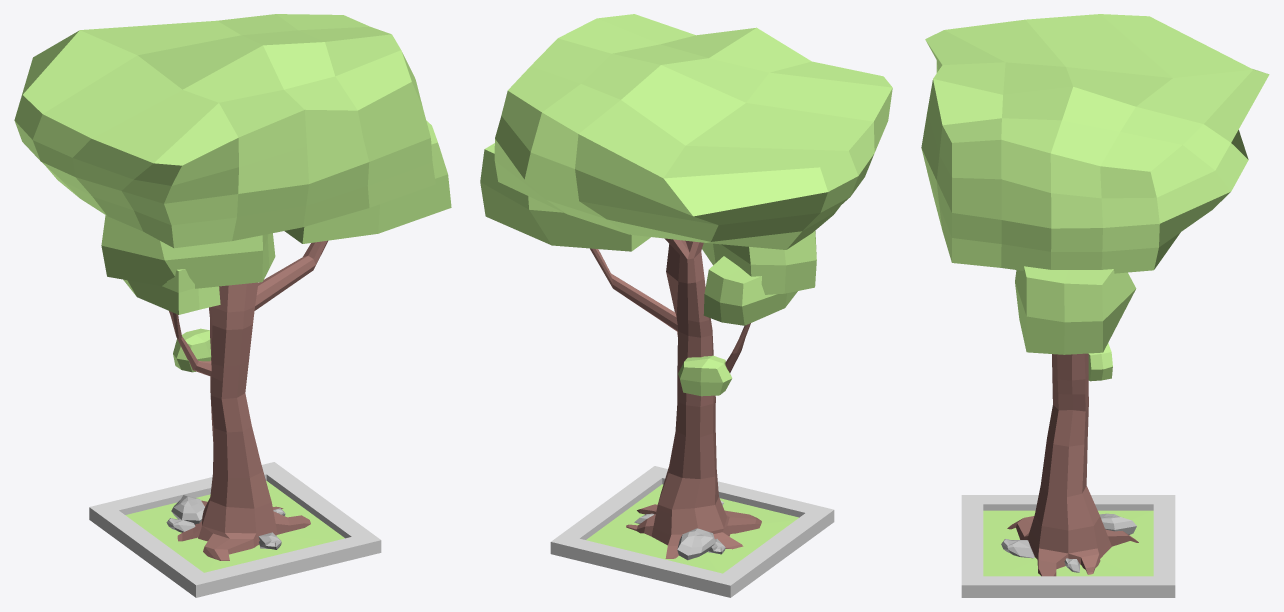
The model's file is tree_big.fbx.
The picture shows the model from 3 angles, left to right: view 1: azimuth 30°, elevation 25°; view 2: azimuth 150°, elevation 25°; view 3: azimuth 270°, elevation 25°; orthographic projection. The views are drawn at different scales.
Parts seen in each view (by area): view 1: tree_big; view 2: tree_big; view 3: tree_big.
Boxes of the visible parts, left/top/right/bottom form: tree_big: left=14, top=14, right=451, bottom=597; tree_big: left=480, top=14, right=892, bottom=597; tree_big: left=921, top=14, right=1269, bottom=597.
Bounding box in the file's own units: 596 × 703 × 461.
1 material, 1 textured.
